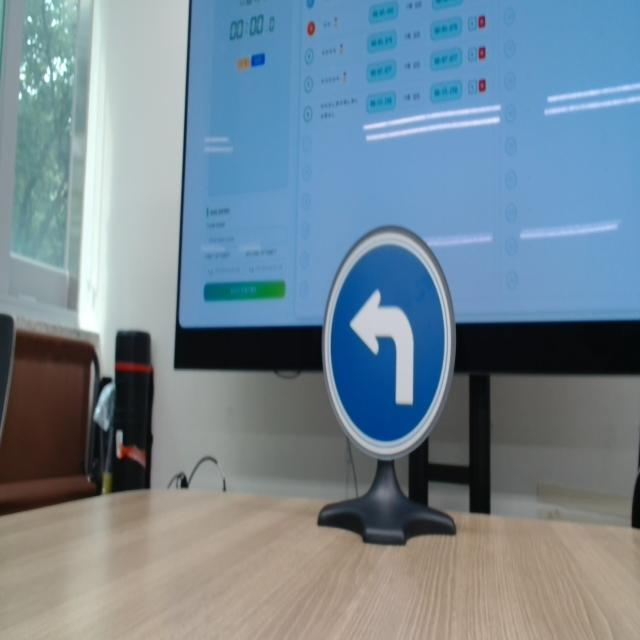left_direction: (312, 212, 473, 482)
